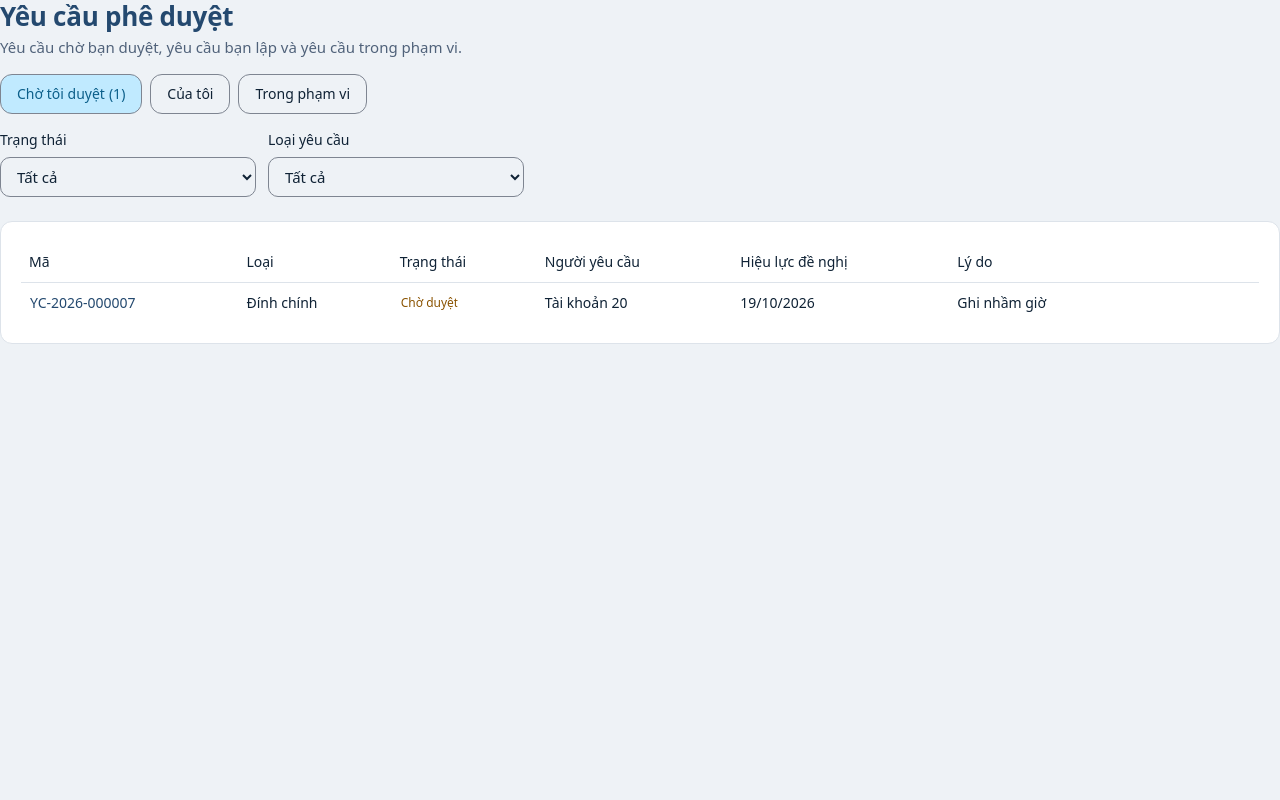
Test case: ApprovalInbox › US5_2_duyet_apDungNgay_hienNgayApDung_capNhatDong
What coordinates should you click on to do the following:
click the button "YC-2026-000007"
I would click on:
 (83, 303)
Its box is [29,292,137,314].
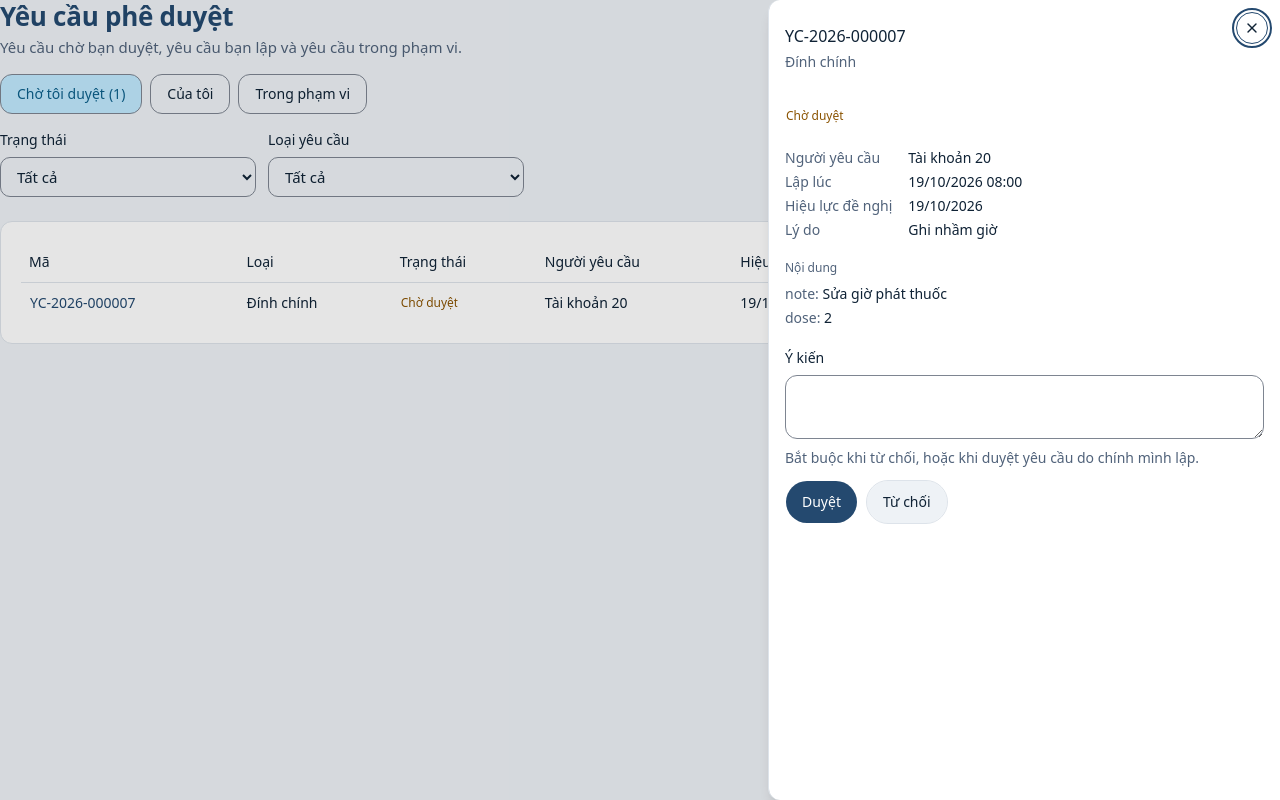
What coordinates should you click on to do the following:
click the button "Duyệt"
I would click on:
 (822, 502)
Its box is [785,480,858,524].
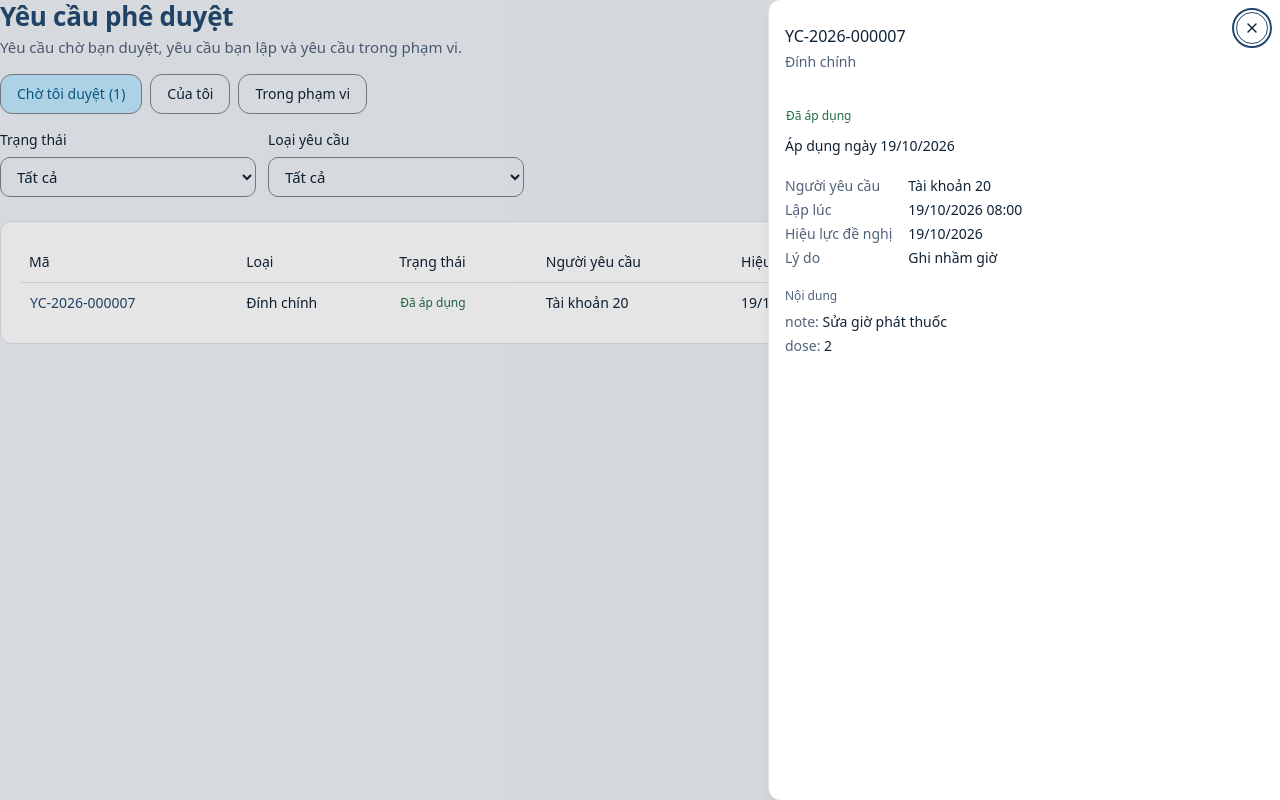
Check: the text "Áp dụng ngày 19/10/2026" is shown, box [785,136,955,155]
Check: the row shows "Đã áp dụng", box [400,294,466,311]
